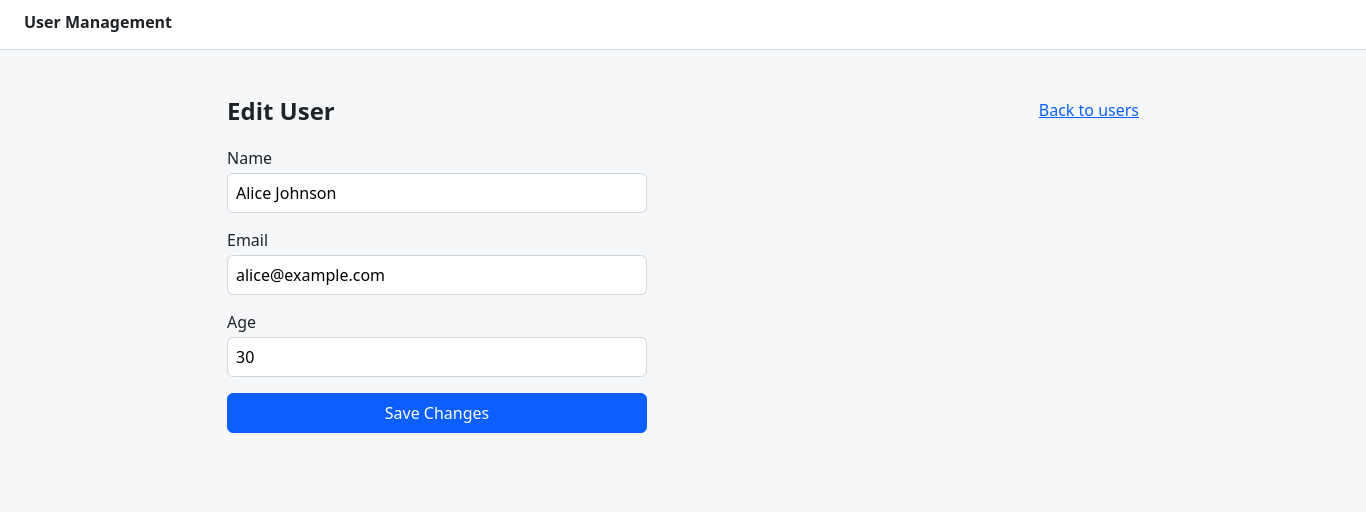
Test case: Edit user page › shows an error and stays on the page when saving fails
The image size is (1366, 512).
Replace the text in the field labelled "Email" with "taken@example.com" at (437, 275), box [227,255,647,295]
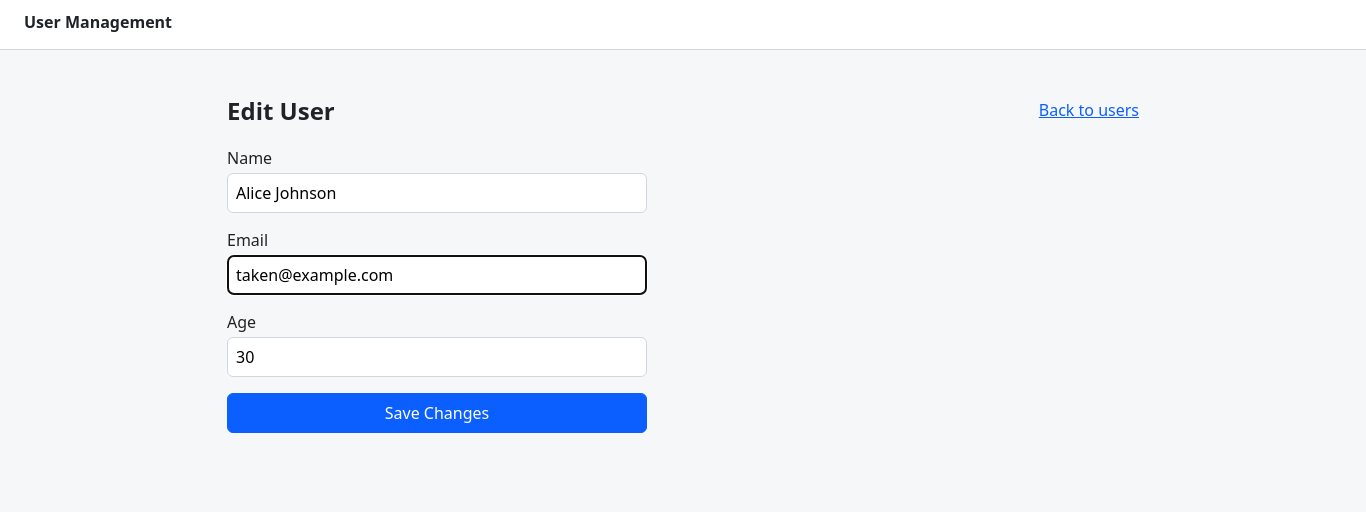
Click the button "Save Changes" at (437, 413), box [227,393,647,433]
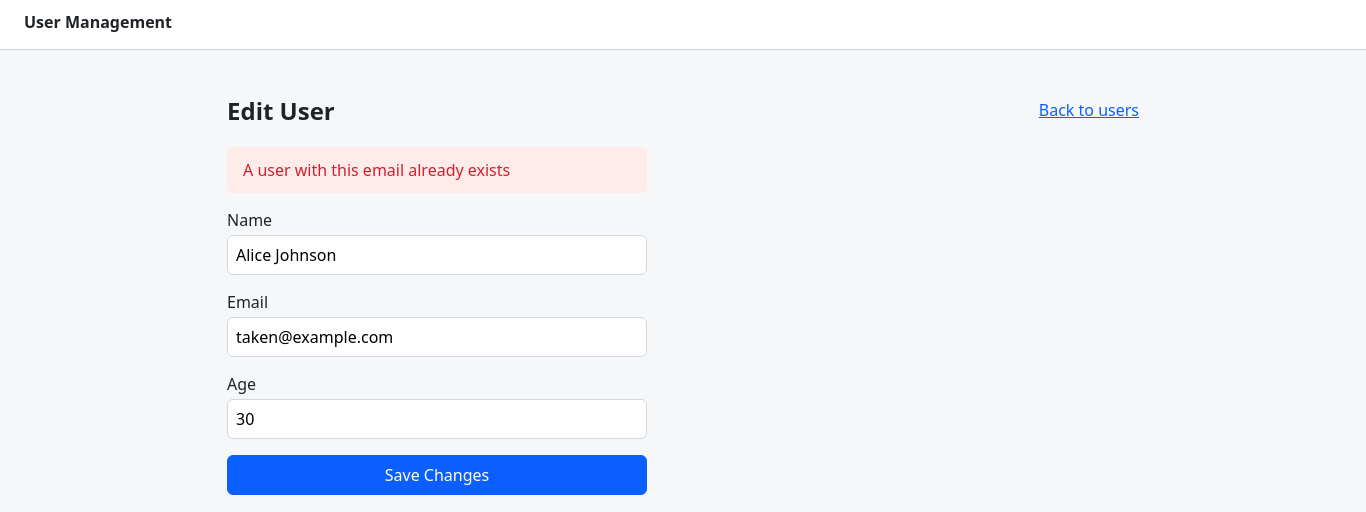
Expected: the heading "Edit User" is shown, [227,94,335,127]
Now the message reads "A user with this email already exists", box [243,159,510,181]
